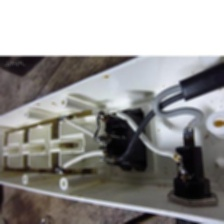three_eye_plug: (0, 45, 224, 222)
